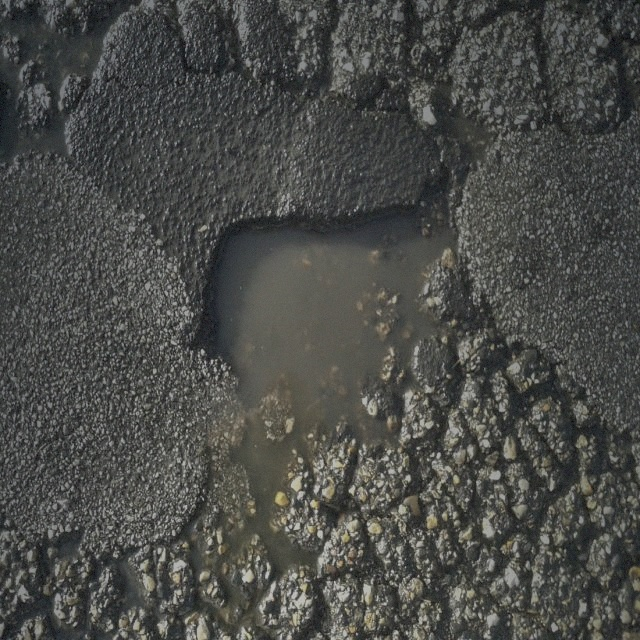pothole: (184, 184, 483, 442)
